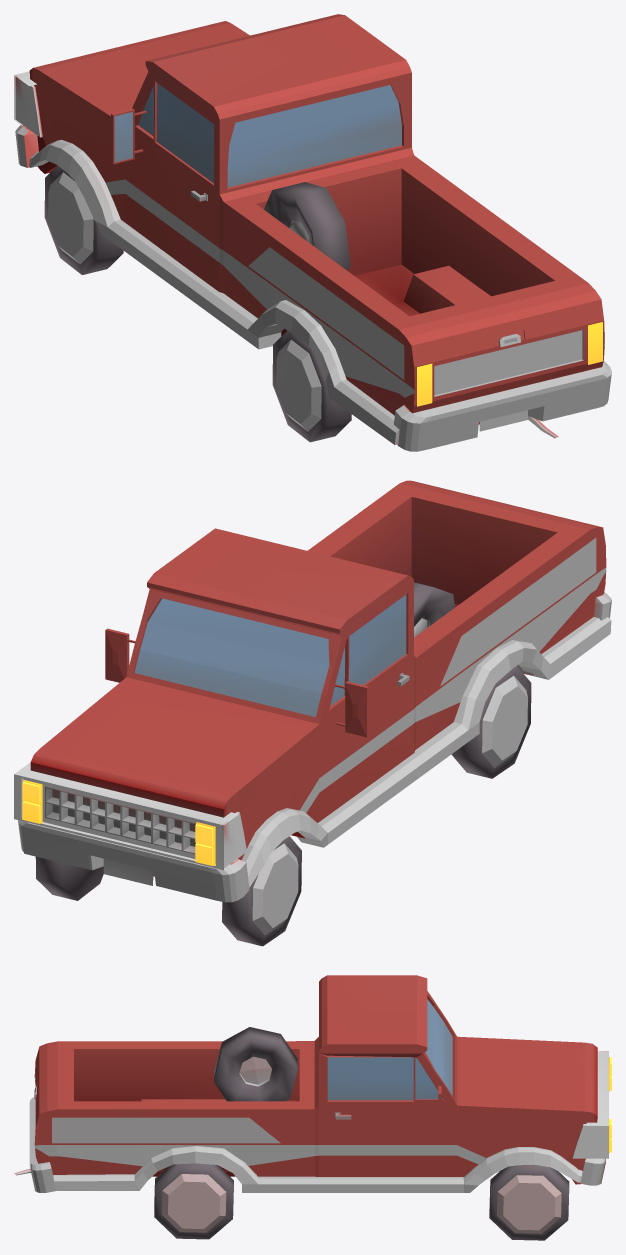
The model's file is caminhonete.fbx.
The picture shows the model from 3 angles, top to bottom: view 1: azimuth 30°, elevation 25°; view 2: azimuth 150°, elevation 25°; view 3: azimuth 270°, elevation 25°; orthographic projection. The views are drawn at different scales.
Visible parts, largest first — view 1: caminhonete; view 2: caminhonete; view 3: caminhonete.
Part boxes in pixels (x1,y1,x2,y2): caminhonete: [14, 14, 611, 451]; caminhonete: [14, 480, 611, 946]; caminhonete: [14, 975, 611, 1240].
Size of the model in its own units: 1044 by 1019 by 2889.
